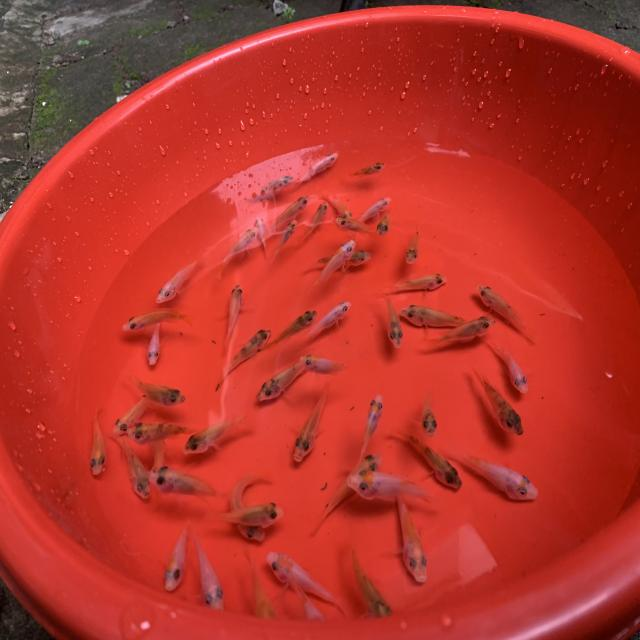nila: (442, 436, 540, 506), (310, 450, 379, 537), (265, 552, 354, 619), (384, 480, 430, 592), (341, 540, 396, 632), (465, 357, 525, 441), (388, 426, 464, 492), (473, 280, 538, 350), (349, 471, 439, 514), (252, 305, 321, 361), (418, 309, 500, 356), (211, 325, 276, 384), (226, 462, 270, 548), (176, 409, 244, 464), (107, 431, 155, 504), (114, 302, 197, 344), (480, 333, 531, 399), (153, 464, 231, 506), (158, 518, 196, 601), (292, 386, 333, 462), (215, 276, 250, 363), (348, 391, 388, 464), (191, 533, 224, 617), (250, 359, 307, 407), (156, 252, 205, 306), (313, 235, 357, 293), (302, 296, 352, 345), (260, 188, 311, 236), (377, 268, 451, 301), (290, 148, 341, 193), (374, 291, 411, 353), (244, 556, 275, 630), (122, 372, 189, 406), (399, 300, 470, 332), (217, 224, 258, 279), (207, 500, 281, 530), (123, 416, 194, 442), (114, 394, 154, 438), (244, 171, 294, 205), (87, 406, 108, 480), (144, 311, 170, 370), (313, 243, 374, 268), (300, 349, 352, 378), (417, 382, 441, 442), (299, 198, 329, 243), (356, 192, 393, 228), (272, 214, 298, 259), (330, 213, 377, 235), (320, 190, 351, 223), (402, 226, 424, 270), (346, 158, 386, 182), (252, 214, 268, 259), (376, 205, 396, 238)
